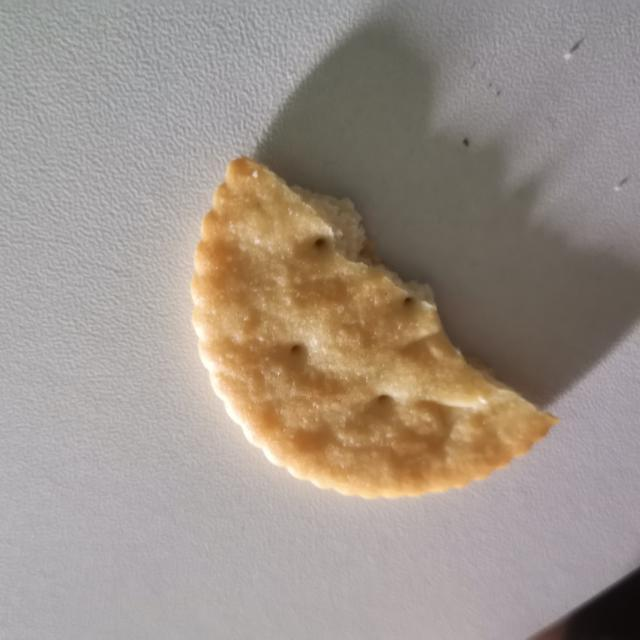Broken: (189, 155, 559, 500)
